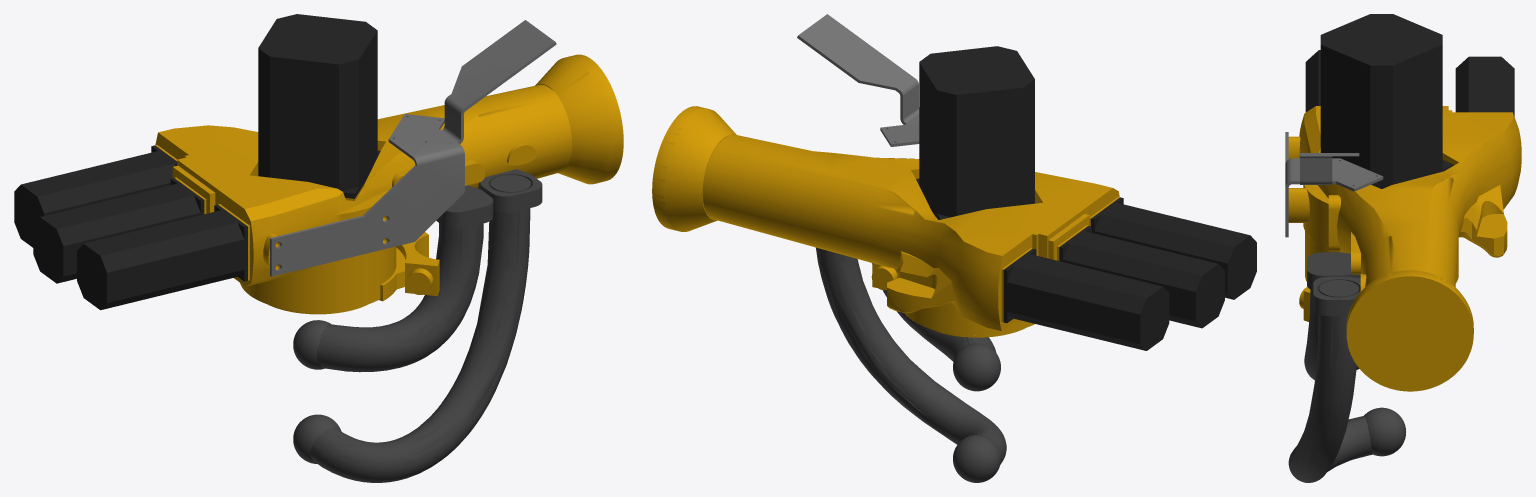
3 views of the same model, side by side, from view 1: azimuth 30°, elevation 25°; view 2: azimuth 150°, elevation 25°; view 3: azimuth 270°, elevation 25° (orthographic). The views are drawn at different scales.
Parts seen in each view (by area): view 1: Link-3; view 2: Link-3; view 3: Link-3.
Part boxes in pixels (<box>): Link-3: <box>14,14,623,482</box>; Link-3: <box>652,14,1256,482</box>; Link-3: <box>1285,14,1521,482</box>.
Size of the model in its own units: 0.7582 by 0.2914 by 0.5684.
